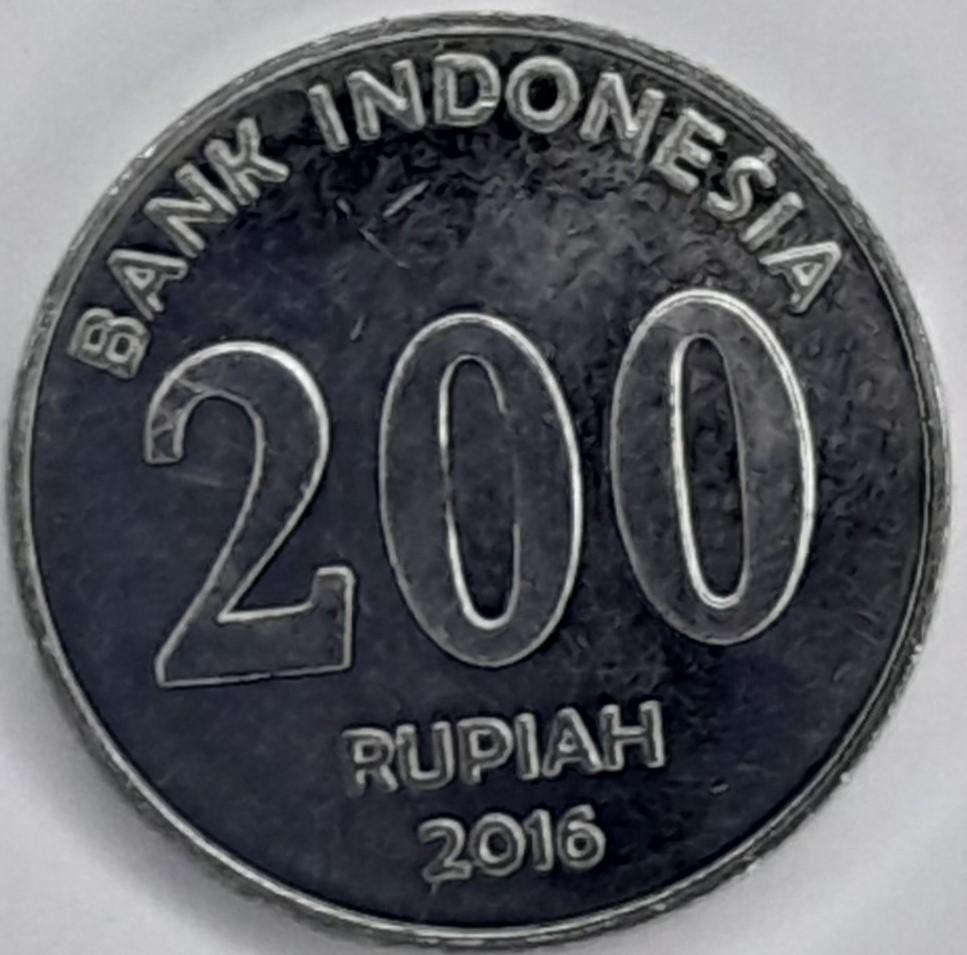coin_200_e2016: (0, 17, 967, 955)
